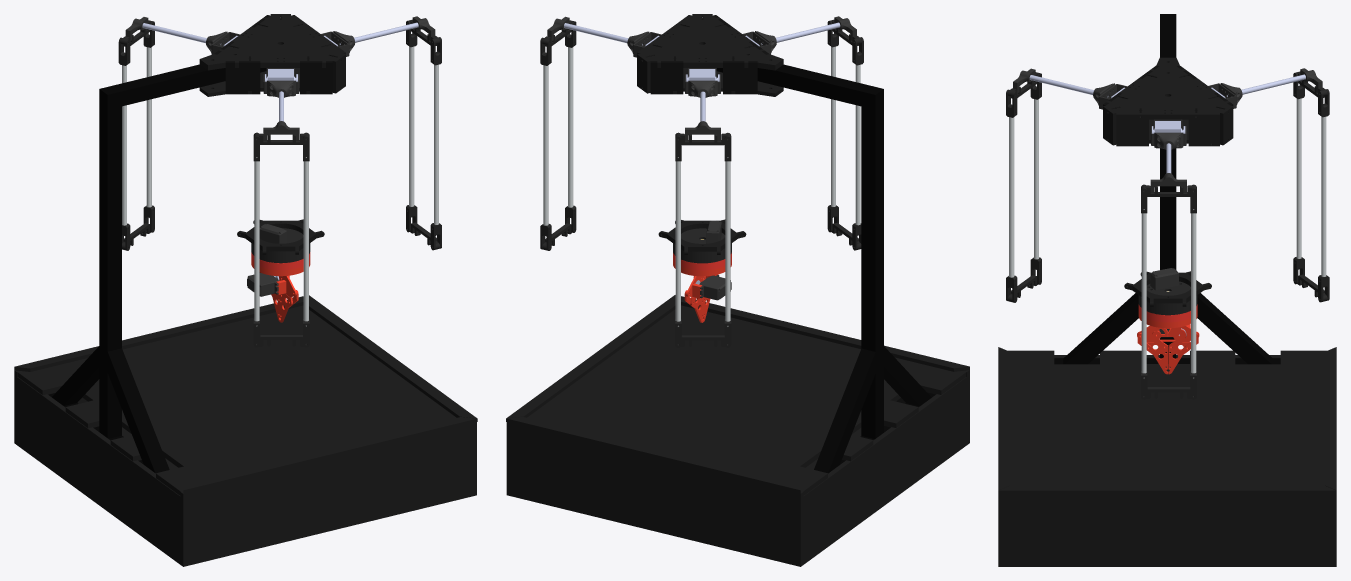
The model's file is Expdeltajunio.FBX.
3 renders of one model, left to right at view 1: azimuth 30°, elevation 25°; view 2: azimuth 150°, elevation 25°; view 3: azimuth 270°, elevation 25°, orthographic.
Visible parts, largest first — view 1: Cortar-Extruir1 (×2), Recortar/Extender4[1], Saliente-Extruir1 (×6), Saliente-Extruir10, Recortar/Extender6[1], Recortar/Extender4[2], Recortar/Extender6[2], MatrizC1, Cortar-Extruir1[1], Cortar-Extruir1[2]; view 2: Cortar-Extruir1 (×2), Recortar/Extender4[1], Saliente-Extruir1 (×6), Saliente-Extruir10, Recortar/Extender6[2], Recortar/Extender4[2], Recortar/Extender6[1], Cortar-Extruir1[1], MatrizC1, Cortar-Extruir1[2], Saliente-Extruir7; view 3: Cortar-Extruir1 (×5), Saliente-Extruir1 (×6), Saliente-Extruir10, Recortar/Extender6[2], Recortar/Extender6[1], Recortar/Extender4[1], Saliente-Extruir1[1], MatrizC1, Recortar/Extender4[2], Saliente-Extruir7, Cortar-Extruir6, Redondeo10.
Part boxes in pixels (x1,y1,x2,y2): Cortar-Extruir1 (×2): (14, 295, 477, 566); Recortar/Extender4[1]: (99, 89, 121, 438); Saliente-Extruir1 (×6): (122, 46, 438, 326); Saliente-Extruir10: (199, 15, 342, 69); Recortar/Extender6[1]: (107, 348, 169, 473); Recortar/Extender4[2]: (100, 64, 266, 106); Recortar/Extender6[2]: (52, 346, 99, 405); MatrizC1: (237, 219, 324, 254); Cortar-Extruir1[1]: (225, 61, 260, 94); Cortar-Extruir1[2]: (300, 61, 332, 94); Cortar-Extruir1 (×2): (506, 295, 969, 566); Recortar/Extender4[1]: (861, 89, 883, 438); Saliente-Extruir1 (×6): (543, 46, 860, 326); Saliente-Extruir10: (640, 15, 783, 70); Recortar/Extender6[2]: (814, 348, 875, 473); Recortar/Extender4[2]: (716, 64, 883, 106); Recortar/Extender6[1]: (884, 346, 931, 406); Cortar-Extruir1[1]: (723, 61, 757, 94); MatrizC1: (658, 219, 746, 254); Cortar-Extruir1[2]: (650, 61, 683, 94); Saliente-Extruir7: (699, 275, 731, 300); Cortar-Extruir1 (×5): (998, 105, 1336, 566); Saliente-Extruir1 (×6): (1009, 98, 1326, 378); Saliente-Extruir10: (1106, 57, 1229, 119); Recortar/Extender6[2]: (1197, 293, 1272, 364); Recortar/Extender6[1]: (1063, 293, 1138, 364); Recortar/Extender4[1]: (1160, 148, 1176, 363); Saliente-Extruir1[1]: (1116, 113, 1148, 146); MatrizC1: (1124, 271, 1211, 306); Recortar/Extender4[2]: (1160, 14, 1176, 57); Saliente-Extruir7: (1150, 268, 1178, 290); Cortar-Extruir6: (1138, 291, 1197, 315); Redondeo10: (1154, 132, 1183, 149).
Bounding box in the file's own units: 23.09 × 27.87 × 20.47.
